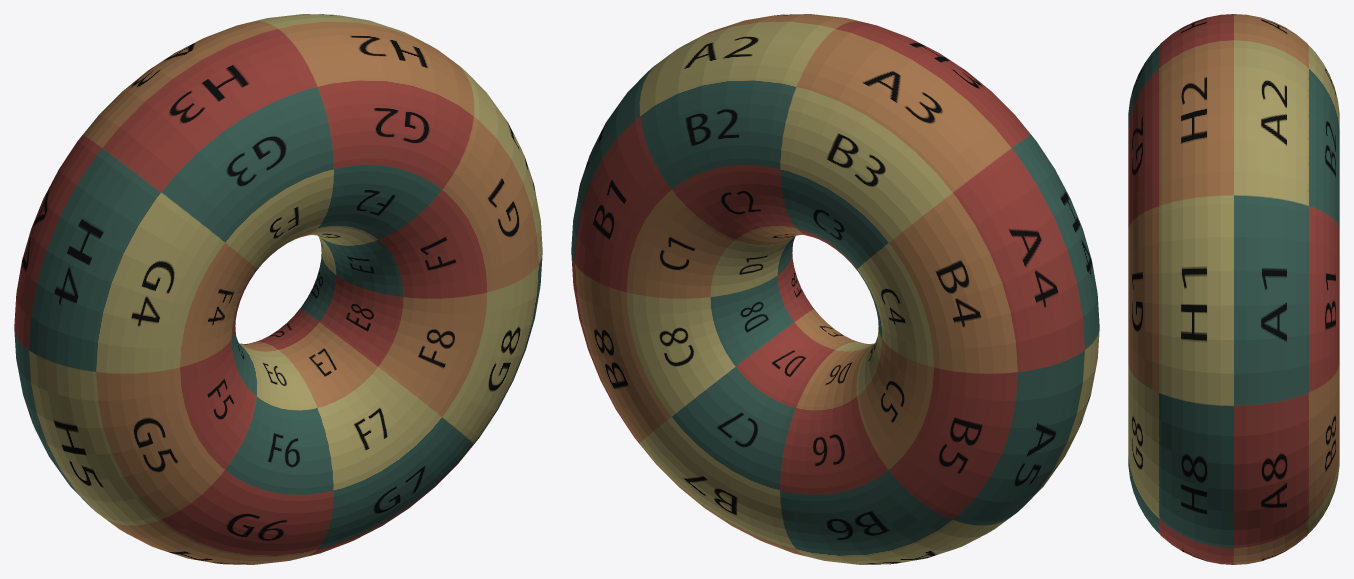
Rendered from texture_torus_R2_r19.glb.
The picture shows the model from 3 angles, left to right: view 1: azimuth 30°, elevation 25°; view 2: azimuth 150°, elevation 25°; view 3: azimuth 270°, elevation 25°; orthographic projection. The views are drawn at different scales.
Parts seen in each view (by area): view 1: world; view 2: world; view 3: world.
Part boxes in pixels (x1,y1,x2,y2): world: (14, 14, 542, 564); world: (571, 14, 1099, 564); world: (1128, 14, 1339, 564).
Bounding box in the file's own units: 18.4 × 18.36 × 7.05.
1 material, 1 textured.
